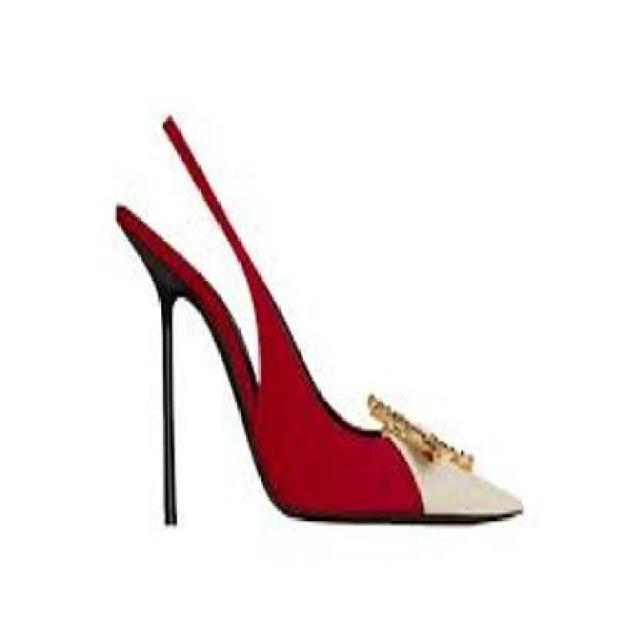not trash: (108, 115, 522, 527)
